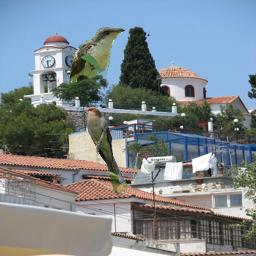Cuckoo: (79, 107, 127, 197), (68, 27, 125, 84)
